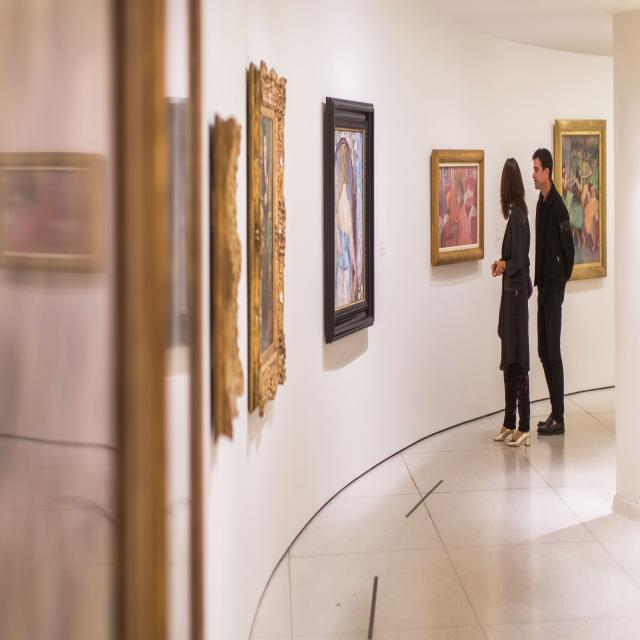Tablo: (333, 126, 365, 313), (560, 130, 603, 268), (438, 160, 480, 254), (261, 115, 274, 356)
